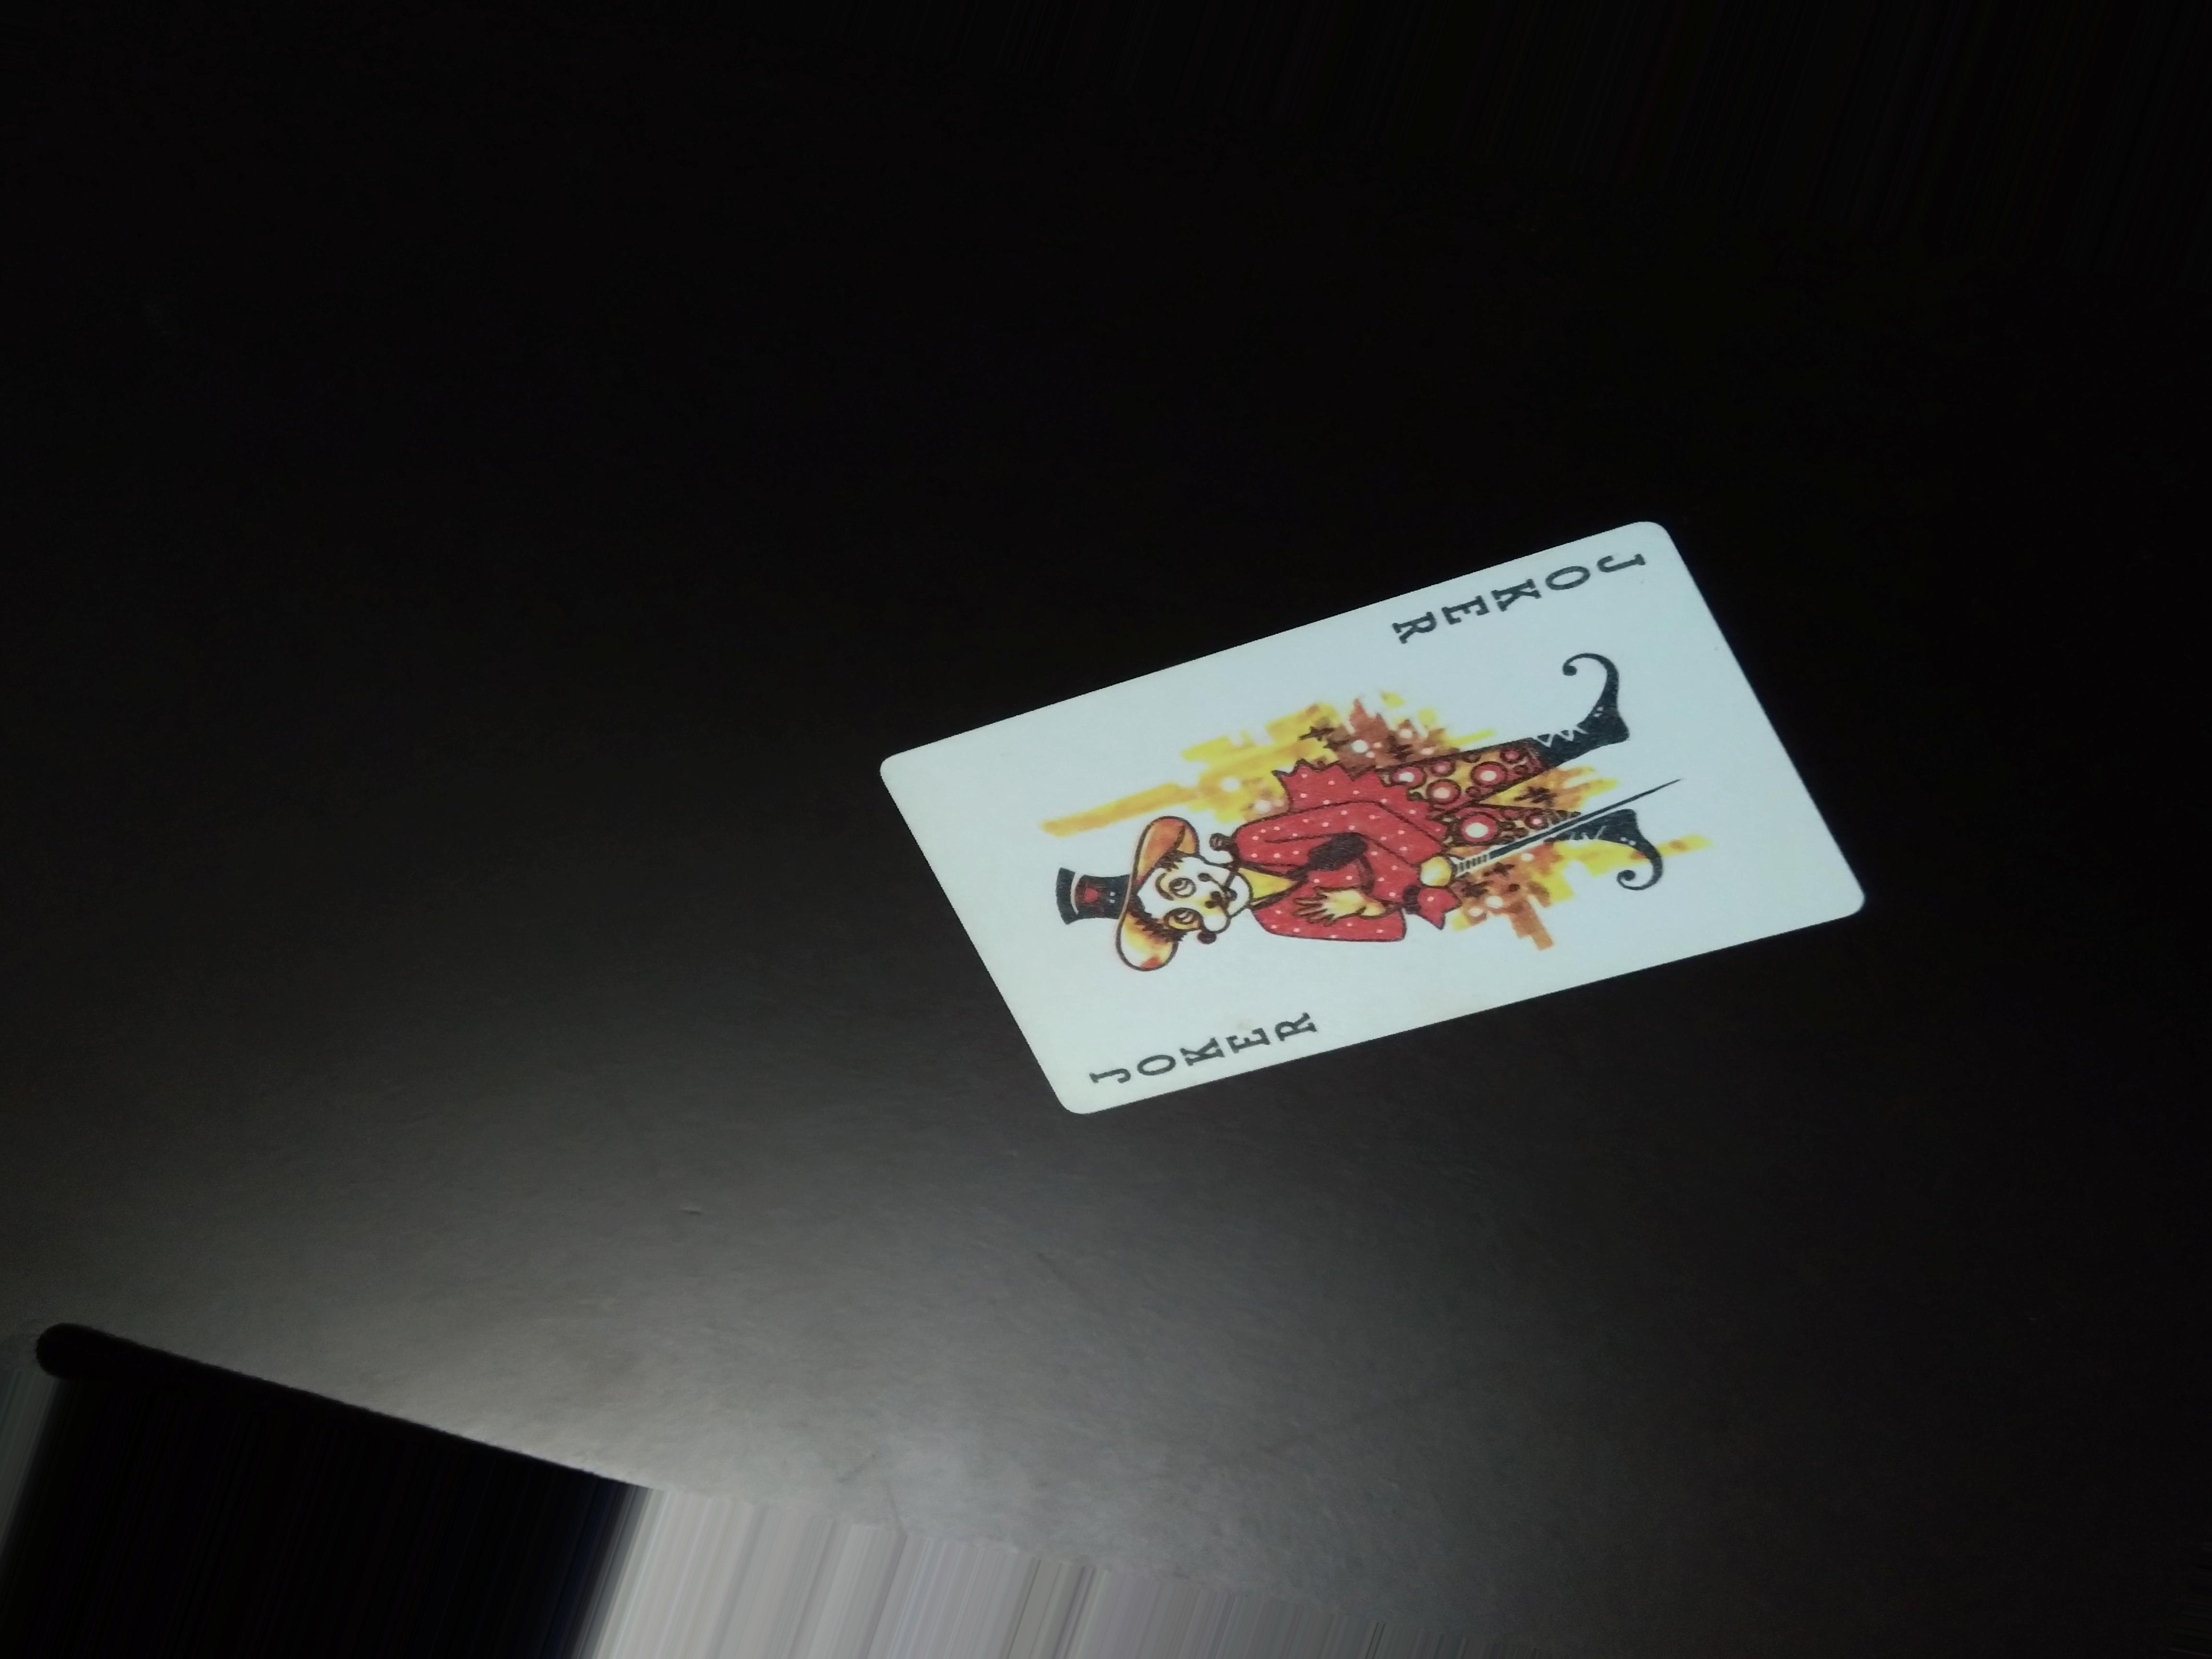JOKER: (1386, 545, 1669, 652)
